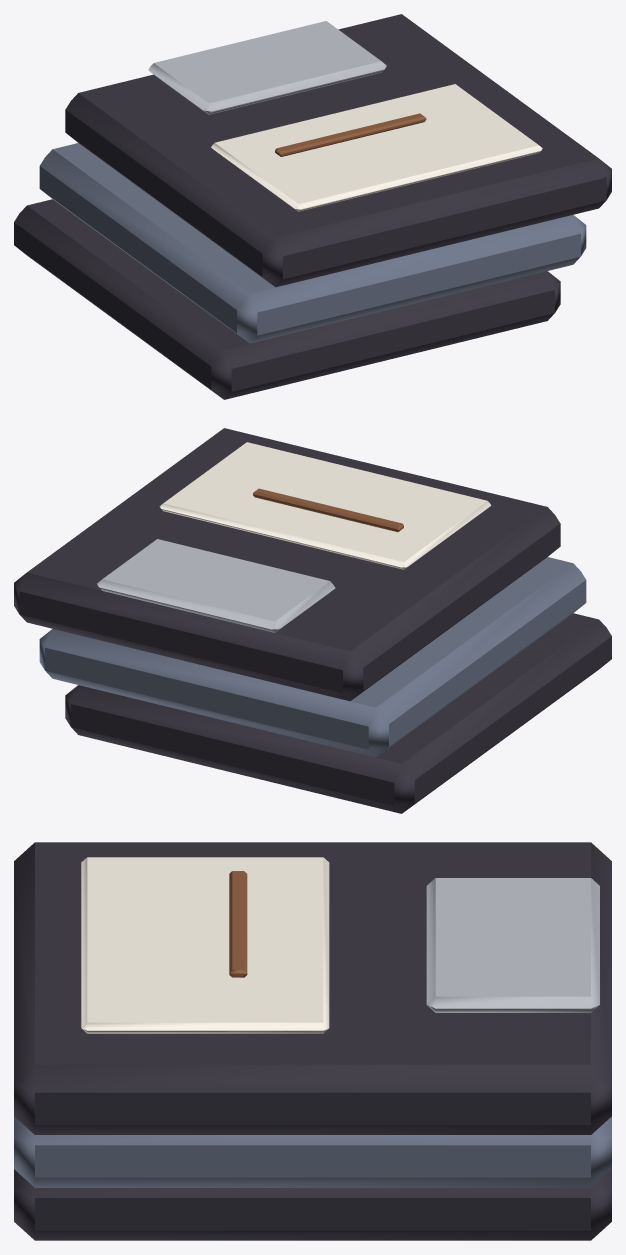
Rendered from era_floppy_stack.glb.
3 views of the same model, one above another, from view 1: azimuth 30°, elevation 25°; view 2: azimuth 150°, elevation 25°; view 3: azimuth 270°, elevation 25° (orthographic). The views are drawn at different scales.
Visible parts, largest first — view 1: era_floppy_stack; view 2: era_floppy_stack; view 3: era_floppy_stack.
Boxes of the visible parts, x1=… form: era_floppy_stack: x1=14, y1=14, x2=611, y2=399; era_floppy_stack: x1=14, y1=428, x2=611, y2=813; era_floppy_stack: x1=14, y1=842, x2=611, y2=1240.
Bounding box in the file's own units: 0.218 × 0.0865 × 0.2.
